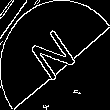N_SE: (27, 23, 83, 87)
